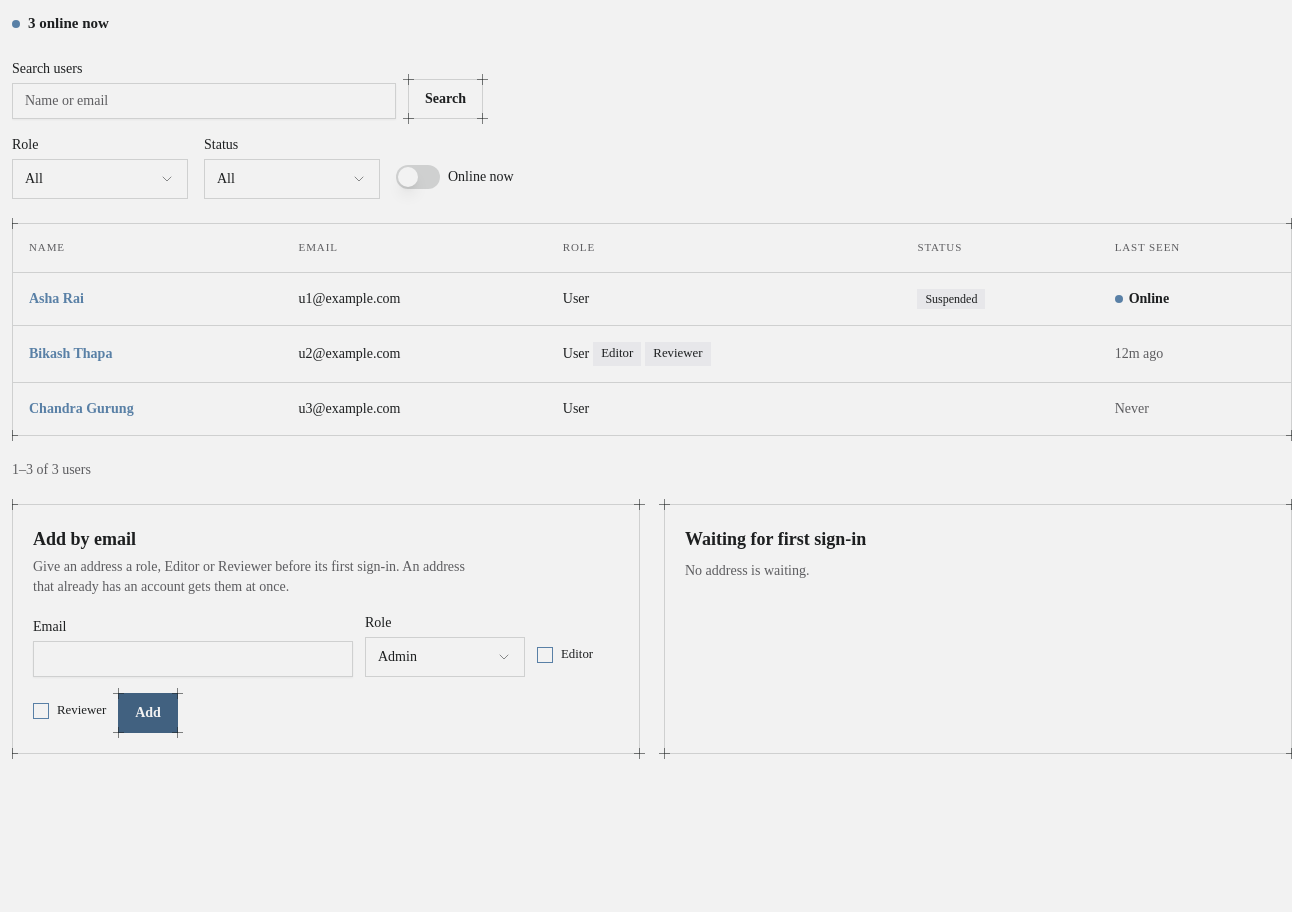
Test: shows the refusal when an address cannot be added
In the field labelled "Email": (193, 659) [33,641,353,677], type "nope"
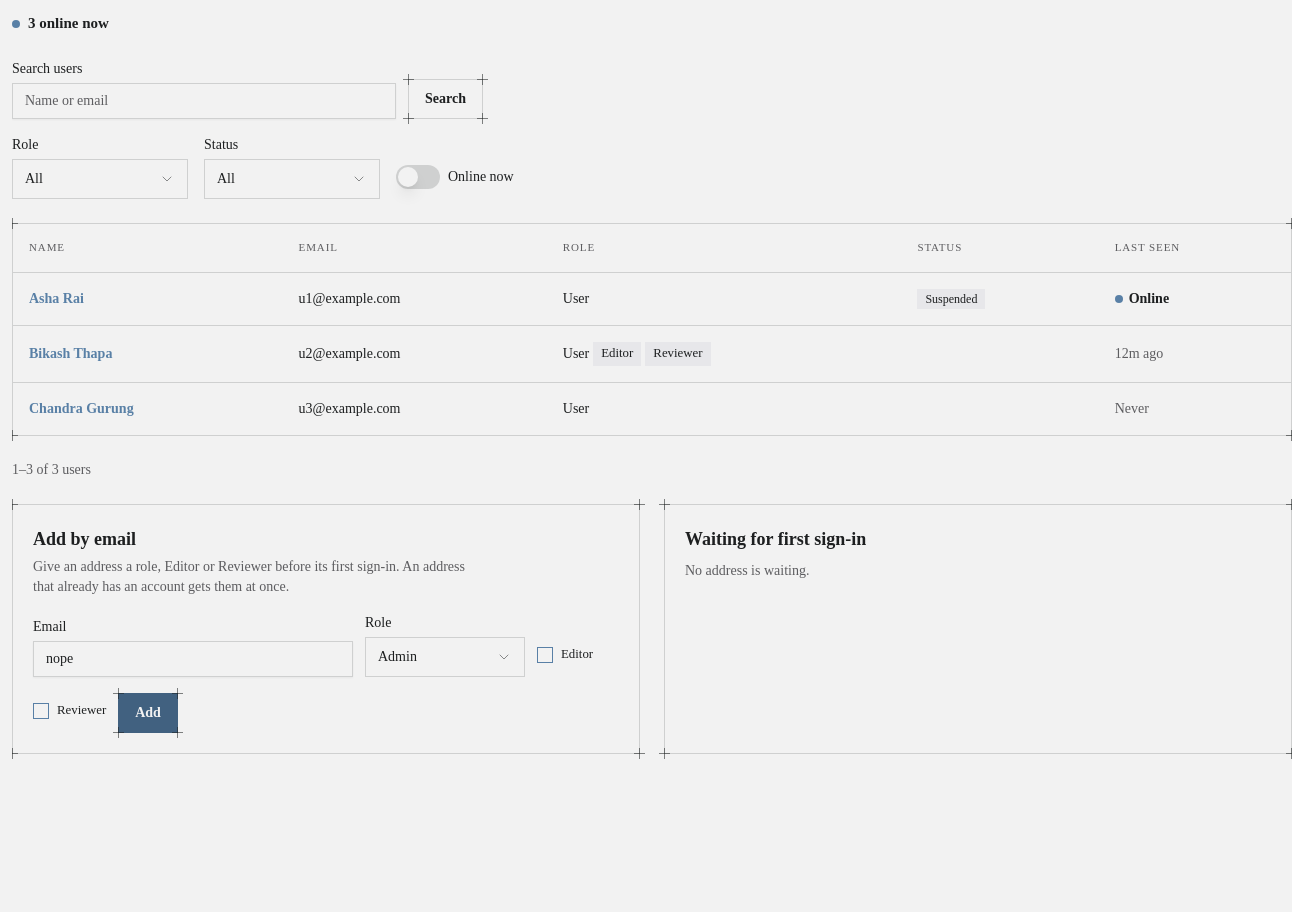
Submit the form named "Add by email", box [33,613,619,733]
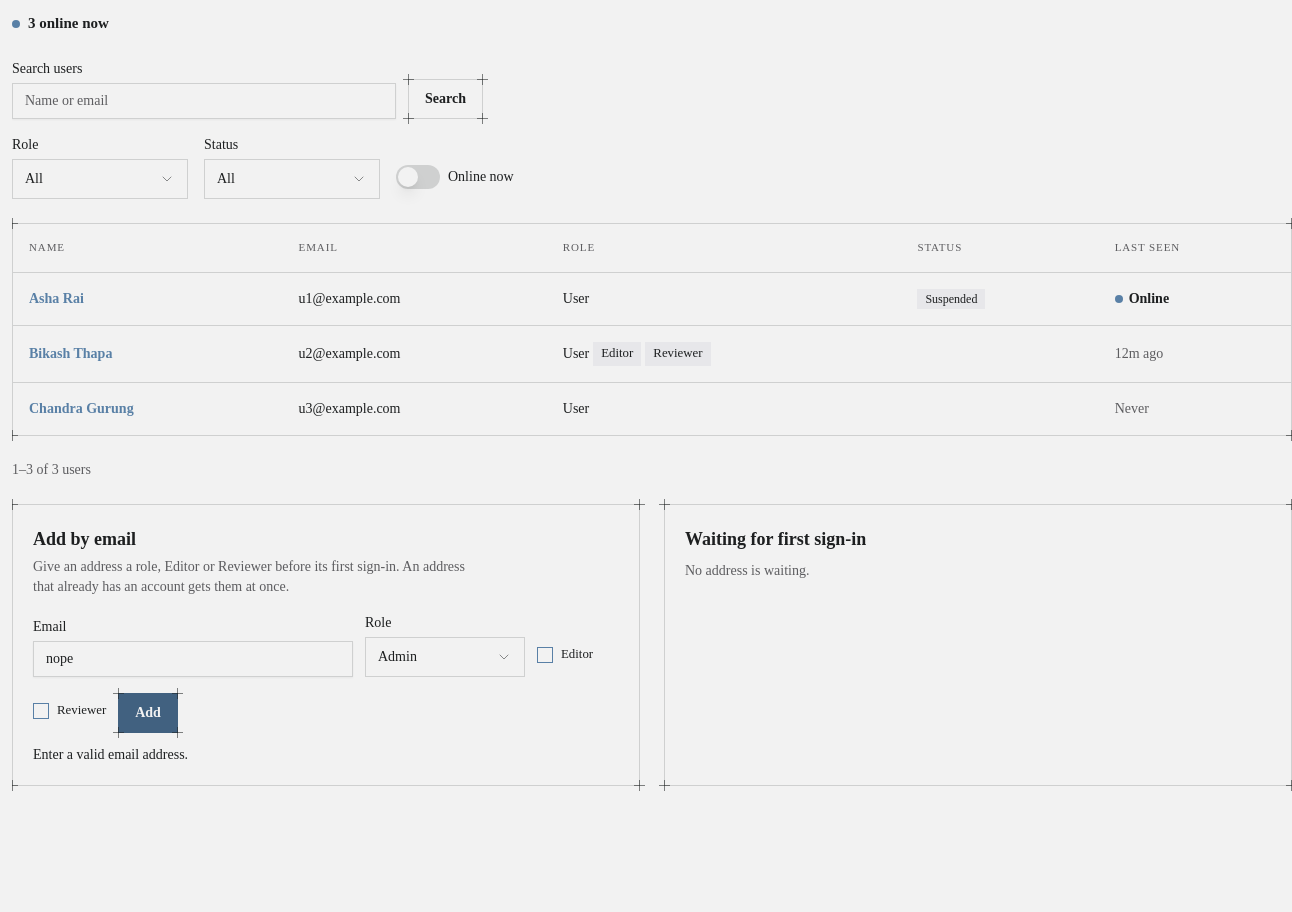
expect the message reads "Enter a valid email address.": met, box [33,747,188,762]
